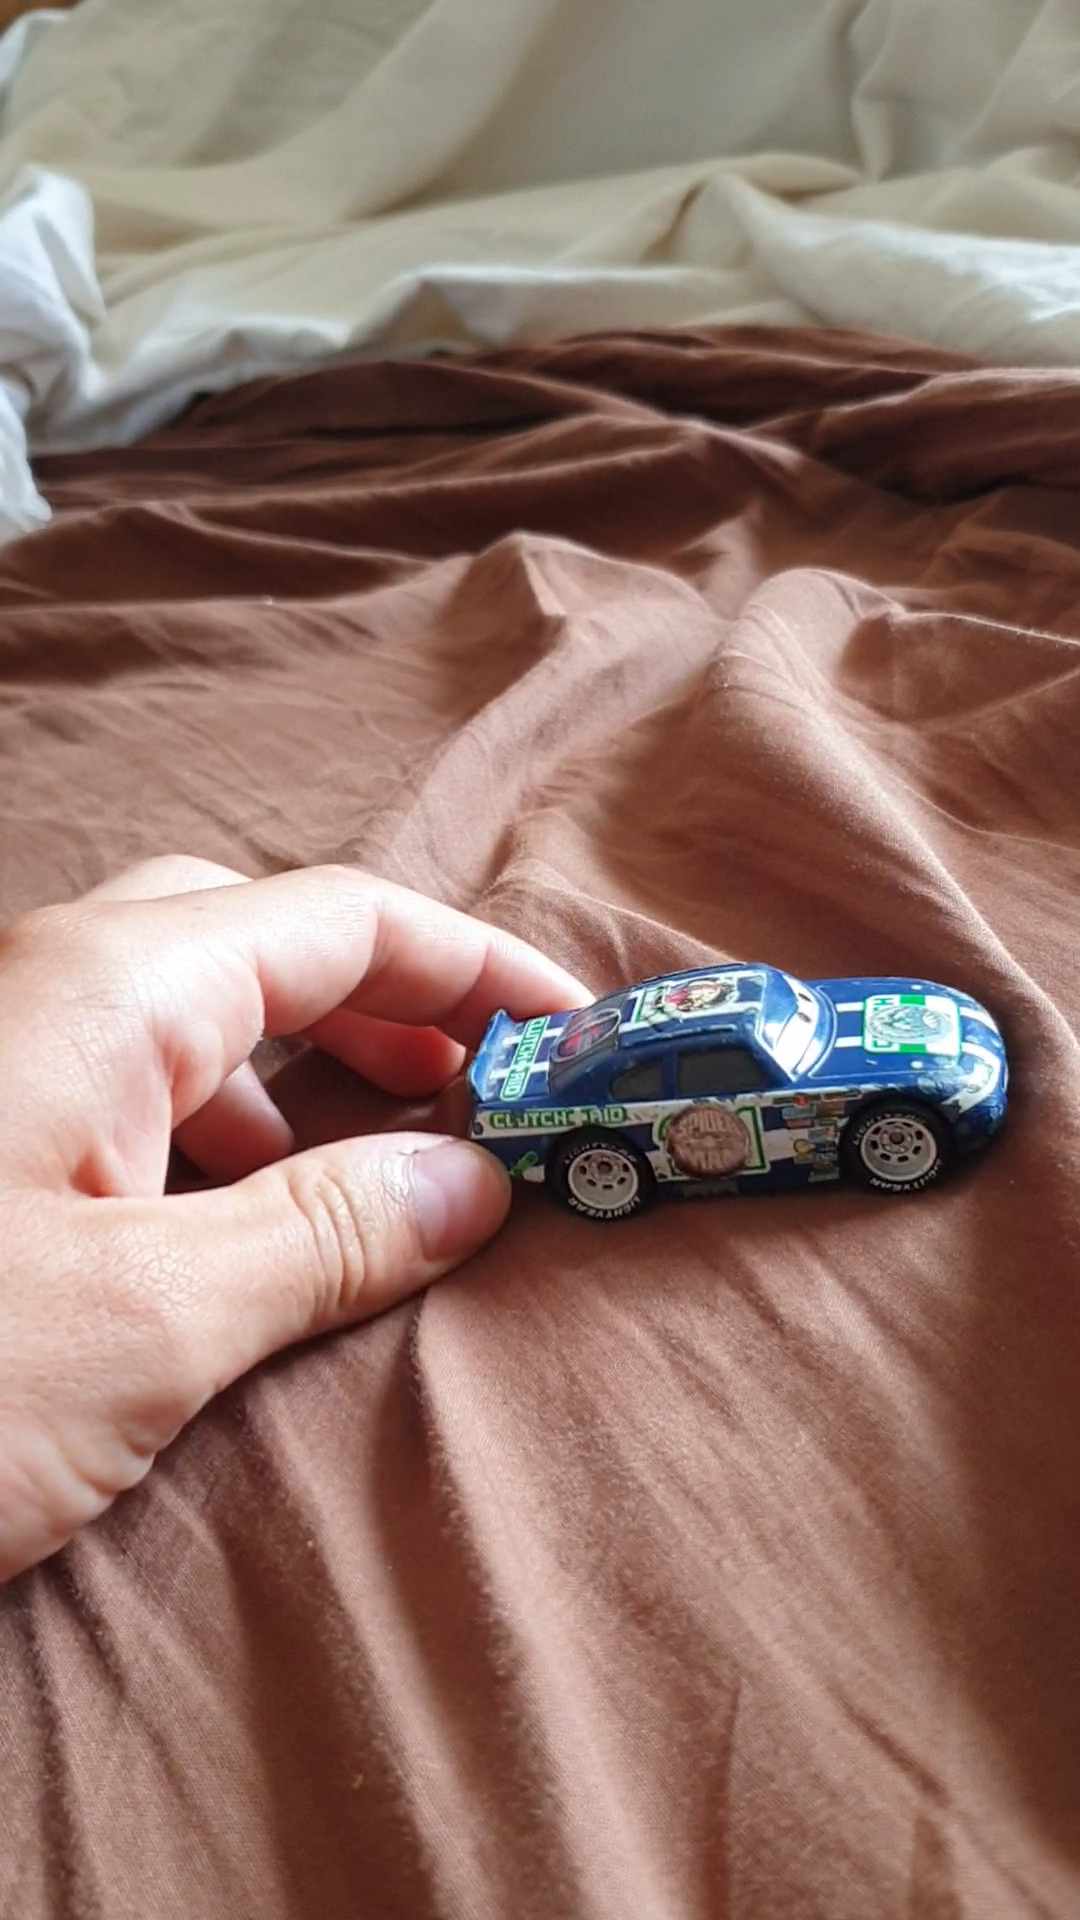cars: (450, 964, 1011, 1218)
